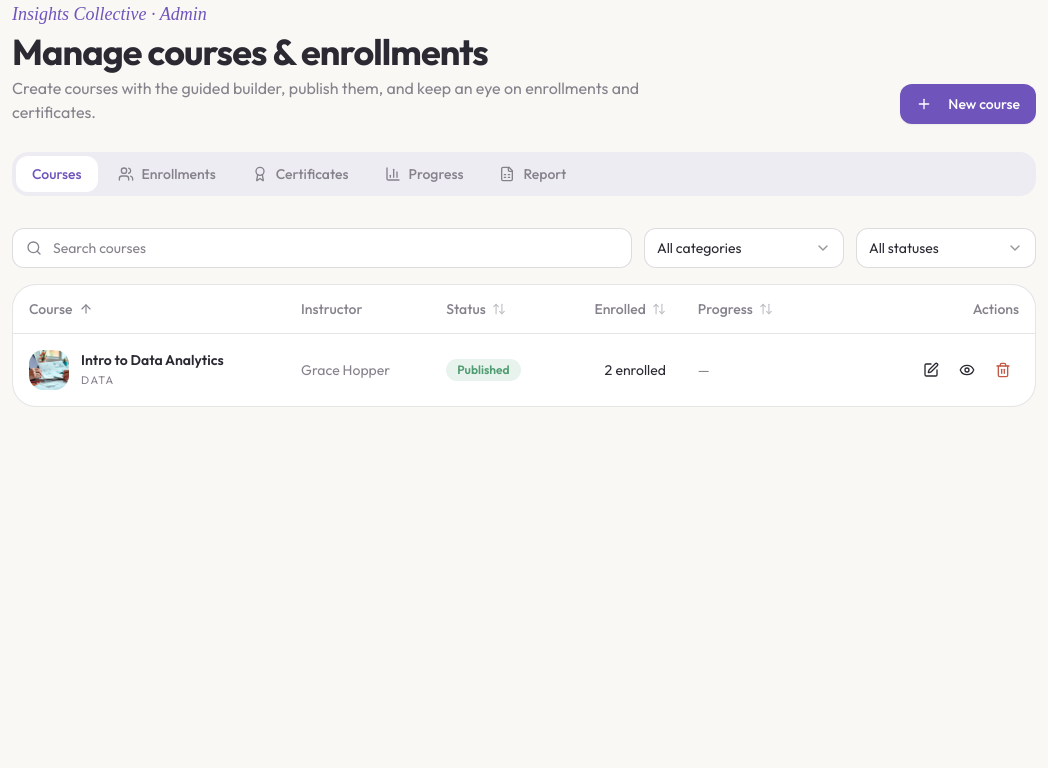
Test: AdminCourses › certificates tab › renders real certificate rows from the certificates query
Click the tab "Certificates" at (300, 174), box [236, 156, 365, 192]
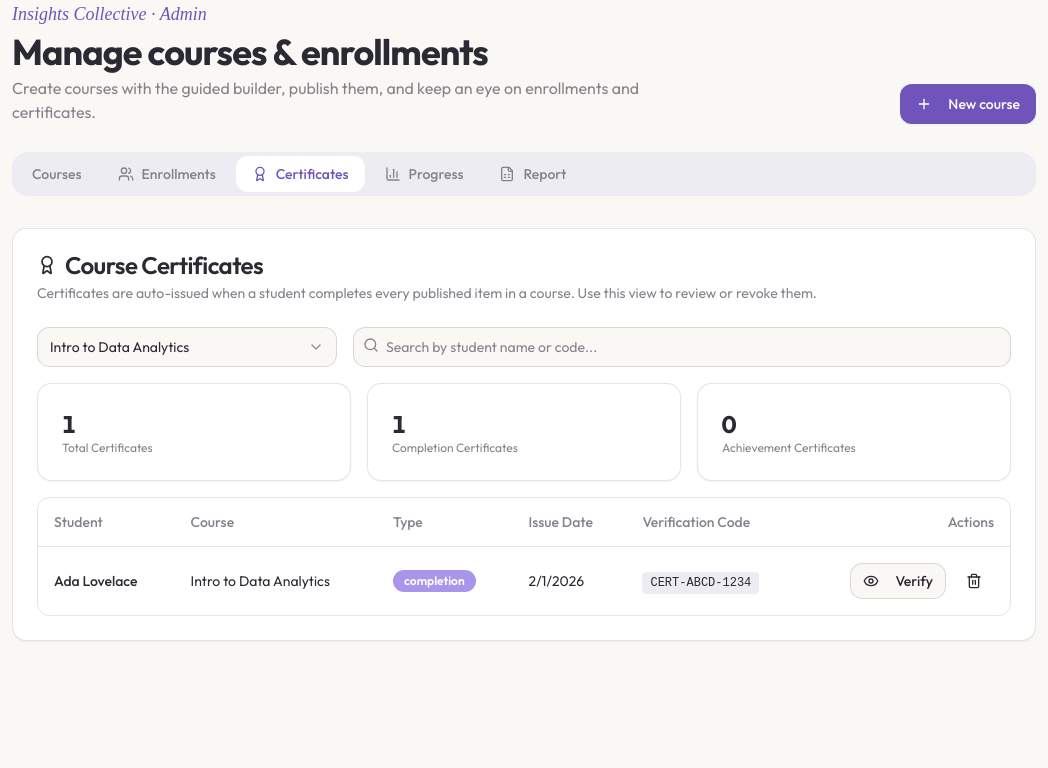
Expected: the text "Ada Lovelace" is shown, [38, 546, 175, 614]
Expected: the text "CERT-ABCD-1234" is shown, [642, 572, 759, 594]
Expected: the text "completion" is shown, [393, 570, 476, 592]
